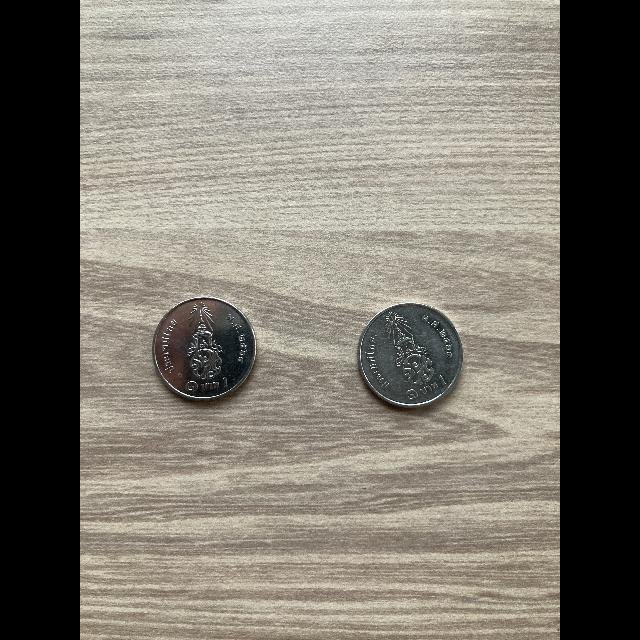1 Bath: (356, 303, 468, 411), (153, 296, 258, 404)
